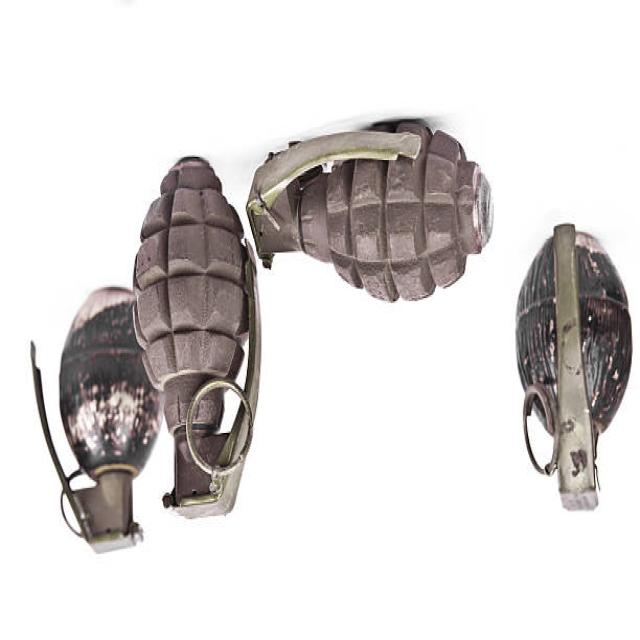grenade: (125, 156, 266, 534), (248, 115, 503, 311), (511, 214, 640, 524), (25, 289, 166, 562)
